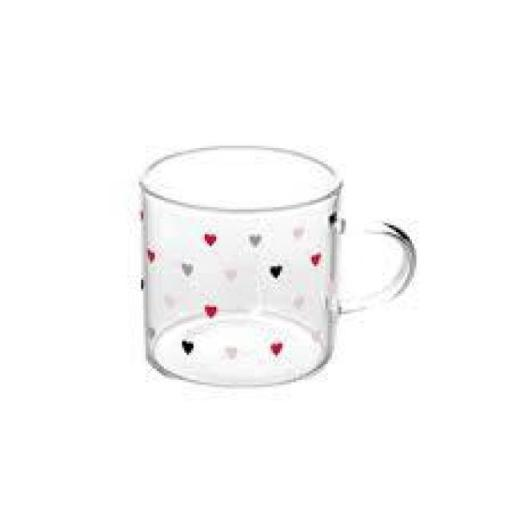glass: (125, 126, 428, 404)
